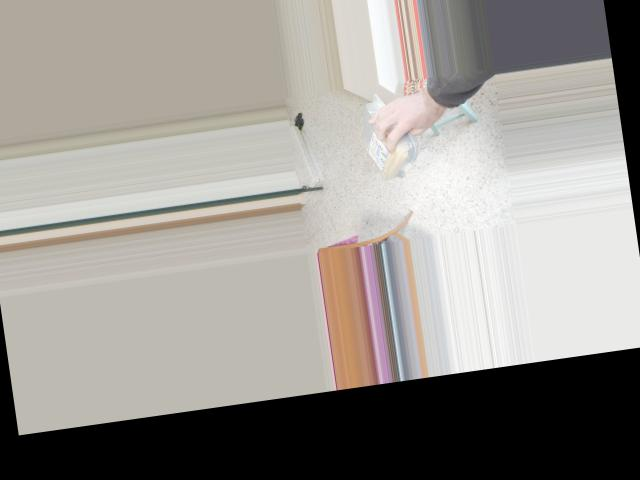cheese: (358, 90, 412, 182)
